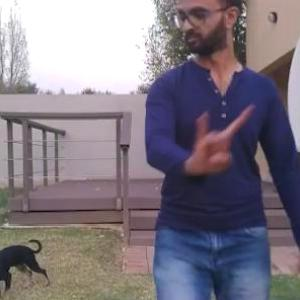takeoff-hand: (180, 94, 260, 174)
